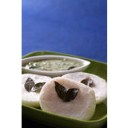idly: (40, 77, 96, 119), (63, 74, 107, 102), (22, 74, 52, 105)
